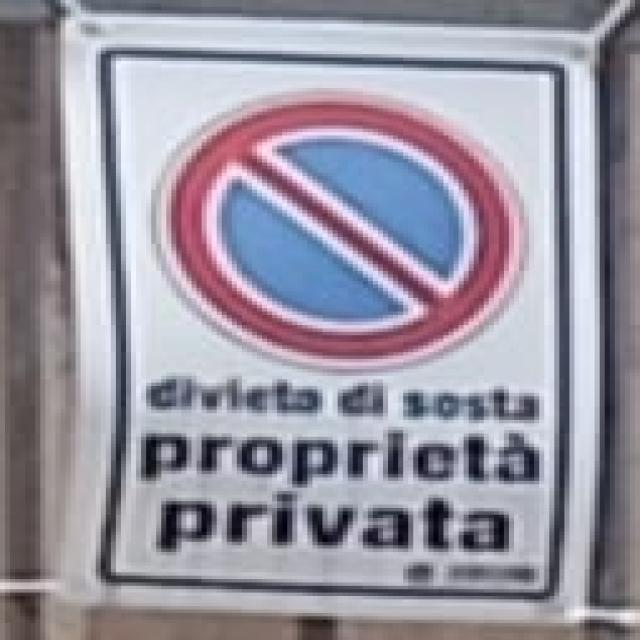forb_stopping: (143, 86, 532, 377)
